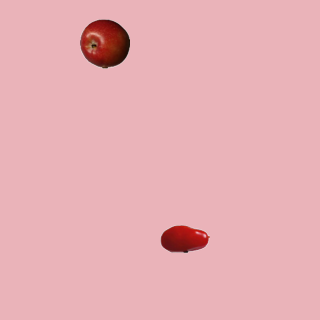Apple Braeburn: (79, 18, 129, 68)
Tomato 2: (159, 213, 209, 263)
